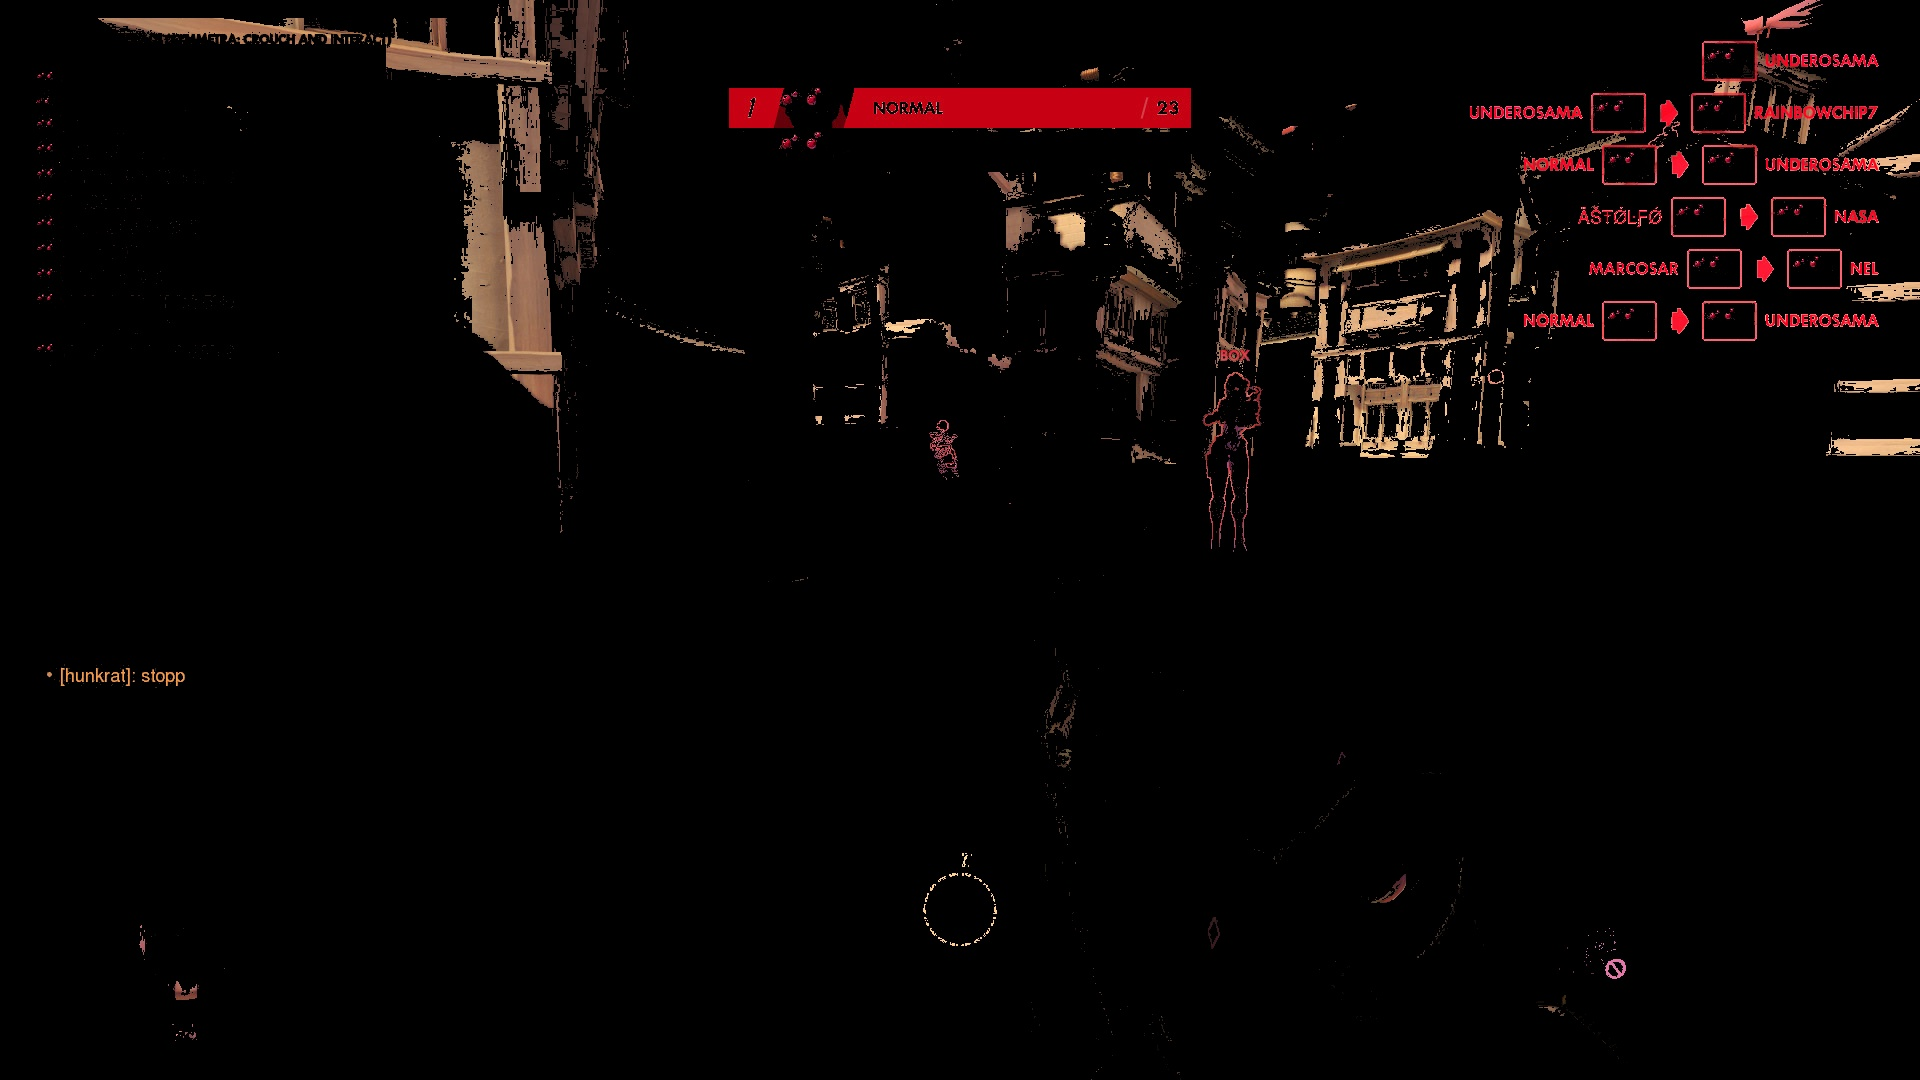widowmaker: (1197, 371, 1267, 579)
